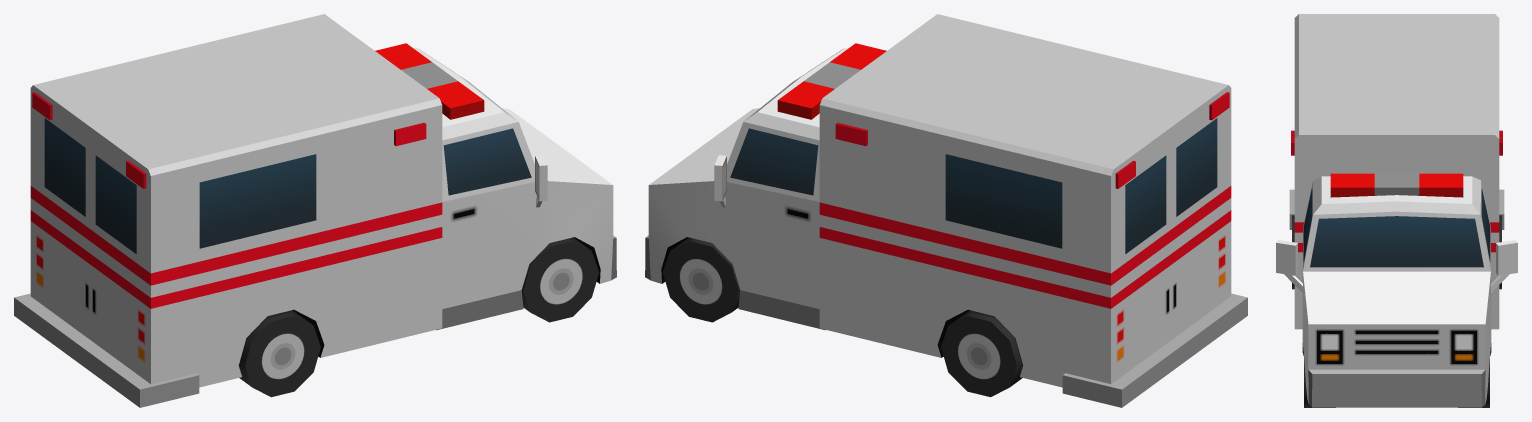
Rendered from Emergency_015.glb.
The picture shows the model from 3 angles, left to right: view 1: azimuth 30°, elevation 25°; view 2: azimuth 150°, elevation 25°; view 3: azimuth 270°, elevation 25°; orthographic projection. The views are drawn at different scales.
Visible parts, largest first — view 1: Emergency_015, wheel_3_Emergency_015_Wheel_2R, wheel_1_Emergency_015_Wheel_1R; view 2: Emergency_015, wheel_2_Emergency_015_Wheel_2L, wheel_0_Emergency_015_Wheel_1L; view 3: Emergency_015.
Boxes of the visible parts, x1,y1,x2,y2 form: Emergency_015: [14, 14, 616, 407]; wheel_3_Emergency_015_Wheel_2R: [238, 310, 320, 397]; wheel_1_Emergency_015_Wheel_1R: [521, 237, 599, 322]; Emergency_015: [645, 14, 1247, 407]; wheel_2_Emergency_015_Wheel_2L: [941, 310, 1023, 397]; wheel_0_Emergency_015_Wheel_1L: [662, 237, 740, 322]; Emergency_015: [1276, 14, 1517, 407].
Size of the model in its own units: 4.49 by 2.23 by 2.26.
Materials: 1 (1 with a texture image).
